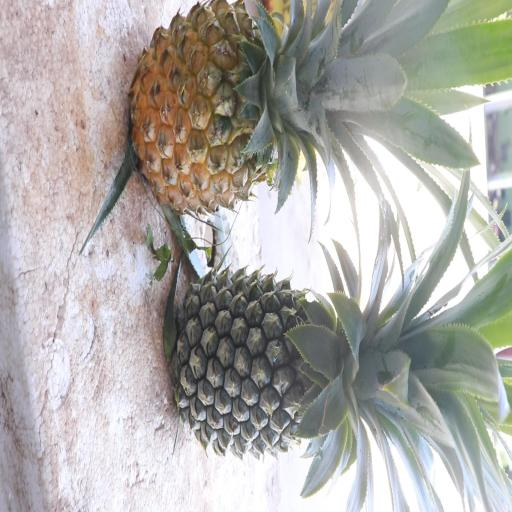Pineapple - v8 v1: (132, 3, 427, 210)
